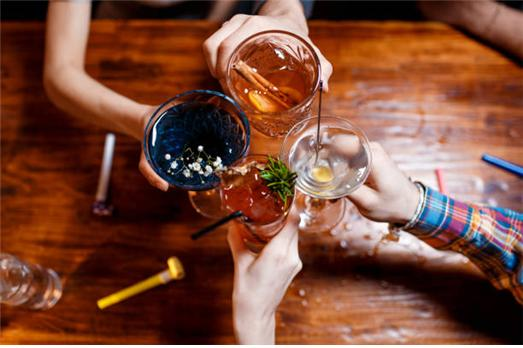alcohol: (141, 89, 243, 224), (278, 117, 373, 235), (227, 29, 321, 141), (223, 158, 289, 253)
